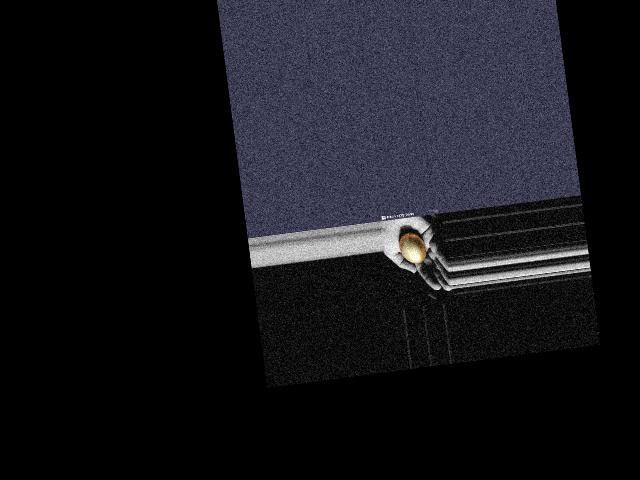egg: (398, 231, 427, 265)
